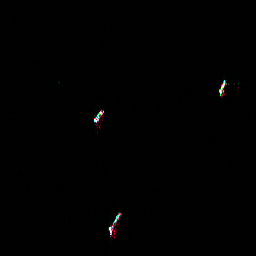ship: (105, 209, 124, 237), (91, 107, 107, 125), (216, 77, 228, 96)
